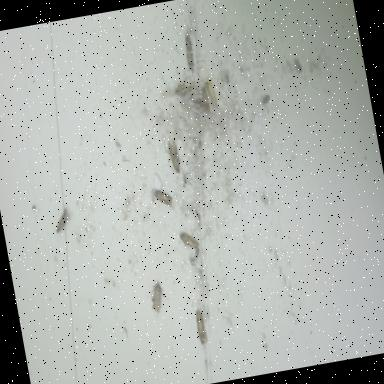pbw: (180, 22, 196, 70), (164, 140, 183, 176), (148, 282, 168, 314), (194, 310, 208, 346), (54, 208, 72, 234), (172, 76, 194, 97), (154, 187, 174, 209), (179, 232, 199, 252), (190, 96, 210, 116), (200, 81, 212, 104)
